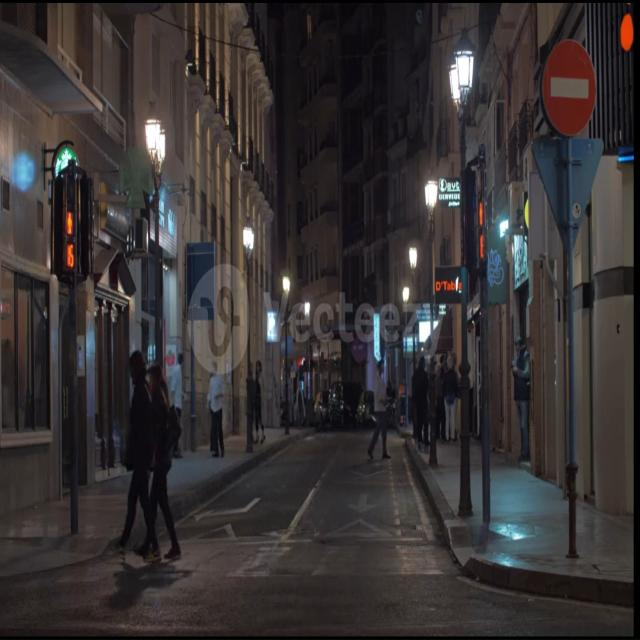pedestrian: (120, 351, 159, 556), (149, 365, 181, 556)
